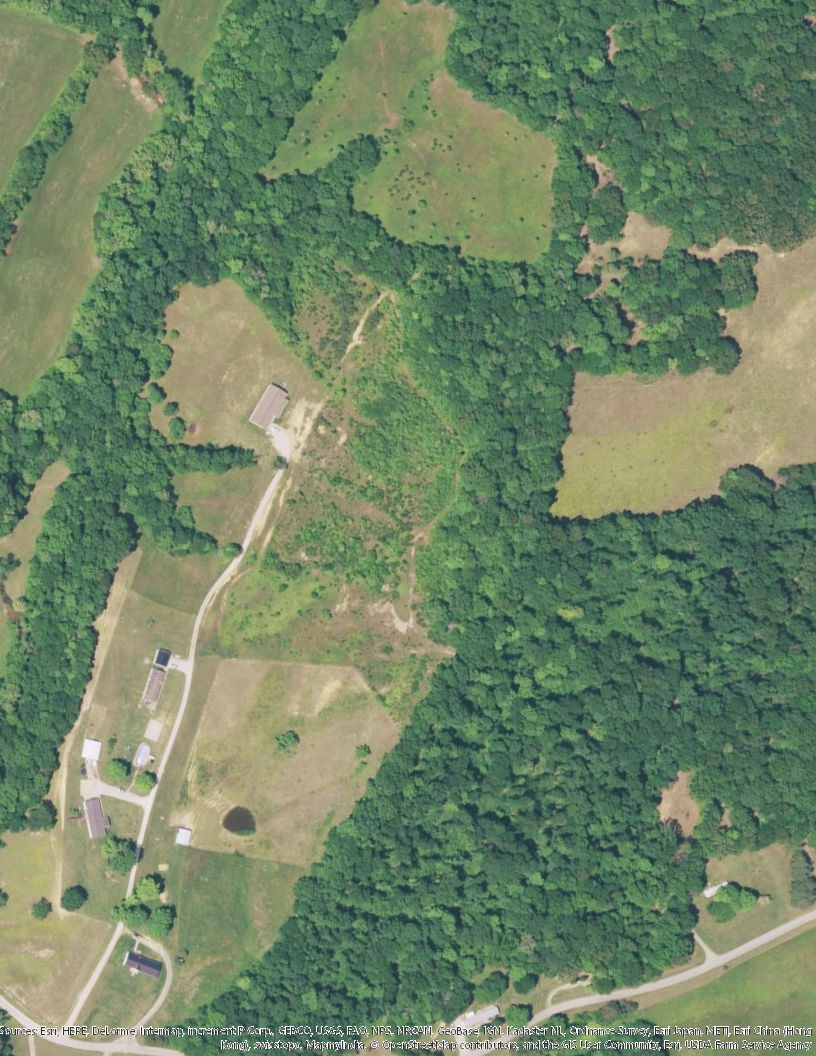cafo: (245, 380, 291, 432)
